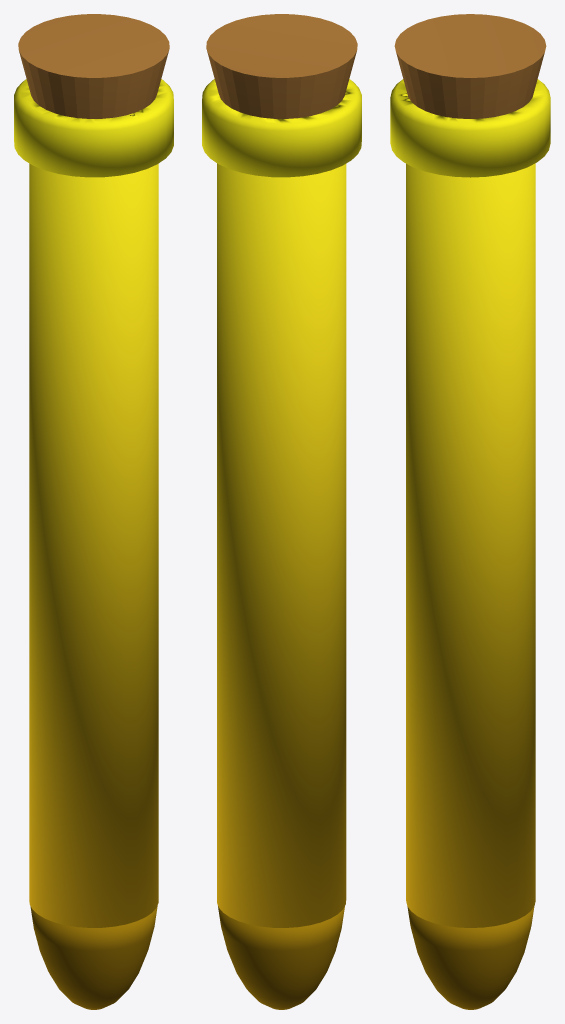
File: Potion_Power.fbx
The picture shows the model from 3 angles, left to right: view 1: azimuth 30°, elevation 25°; view 2: azimuth 150°, elevation 25°; view 3: azimuth 270°, elevation 25°; orthographic projection.
Visible parts, largest first — view 1: Cylinder, Sphere.001, Sphere; view 2: Cylinder, Sphere.001, Sphere; view 3: Cylinder, Sphere.001, Sphere.
Boxes of the visible parts, box(x1,y1,x2,y2) form: Cylinder: box(29, 163, 158, 927); Sphere.001: box(14, 14, 173, 177); Sphere: box(30, 906, 157, 1009); Cylinder: box(217, 163, 346, 927); Sphere.001: box(202, 14, 361, 177); Sphere: box(218, 906, 344, 1009); Cylinder: box(406, 163, 535, 927); Sphere.001: box(390, 14, 550, 177); Sphere: box(407, 906, 534, 1009).
Size of the model in its own units: 53.25 by 353 by 53.25.
3 materials, 3 textured.
